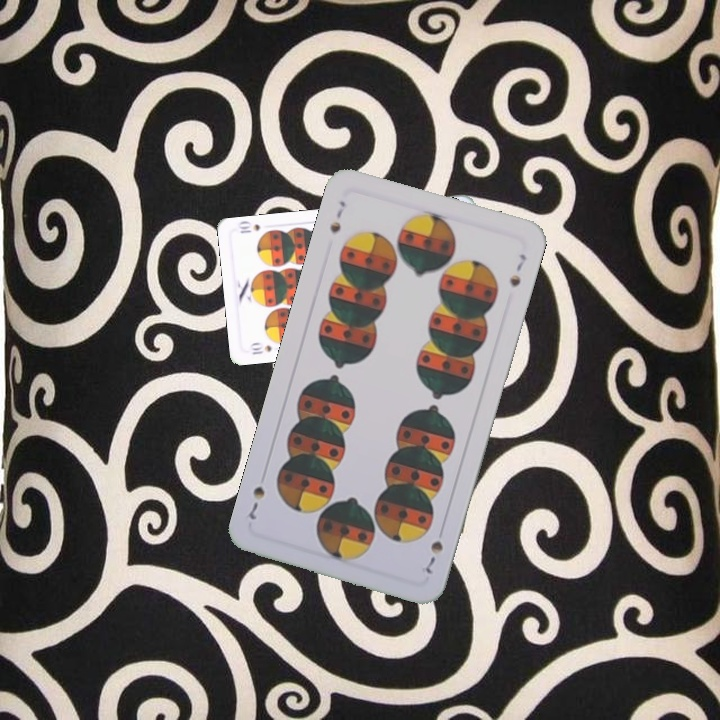S10: (246, 339, 274, 357)
S7: (421, 536, 446, 577), (326, 196, 348, 236)
